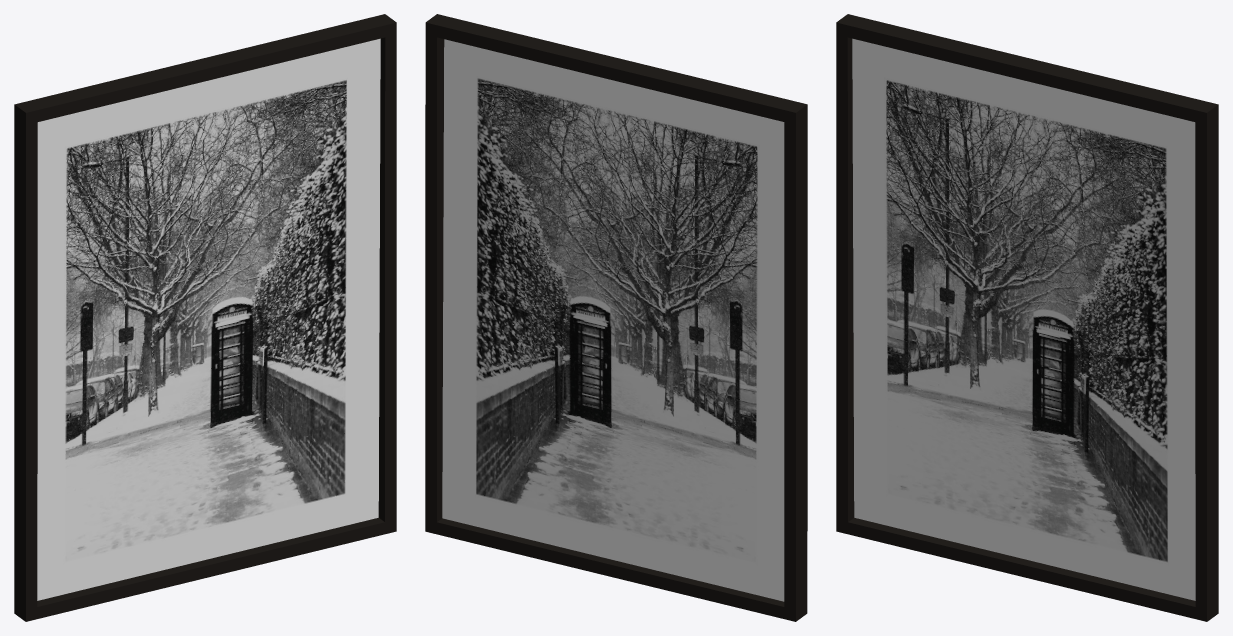
Rendered from P655192_snofall_i_london_30x40_WEBB.glb.
3 views of the same model, side by side, from view 1: azimuth 30°, elevation 25°; view 2: azimuth 150°, elevation 25°; view 3: azimuth 330°, elevation 25° (orthographic).
Visible parts, largest first — view 1: P655208_vintervass_30x40_WEBB, Frame2; view 2: P655208_vintervass_30x40_WEBB, Frame2; view 3: P655208_vintervass_30x40_WEBB, Frame2.
Part boxes in pixels (x1,y1,x2,y2): P655208_vintervass_30x40_WEBB: (37, 38, 380, 600); Frame2: (14, 14, 396, 621); P655208_vintervass_30x40_WEBB: (442, 39, 784, 601); Frame2: (425, 14, 807, 621); P655208_vintervass_30x40_WEBB: (852, 38, 1195, 600); Frame2: (836, 14, 1218, 621).
Bounding box in the file's own units: 0.2576 × 0.3381 × 0.0143.
2 materials, 2 textured.
